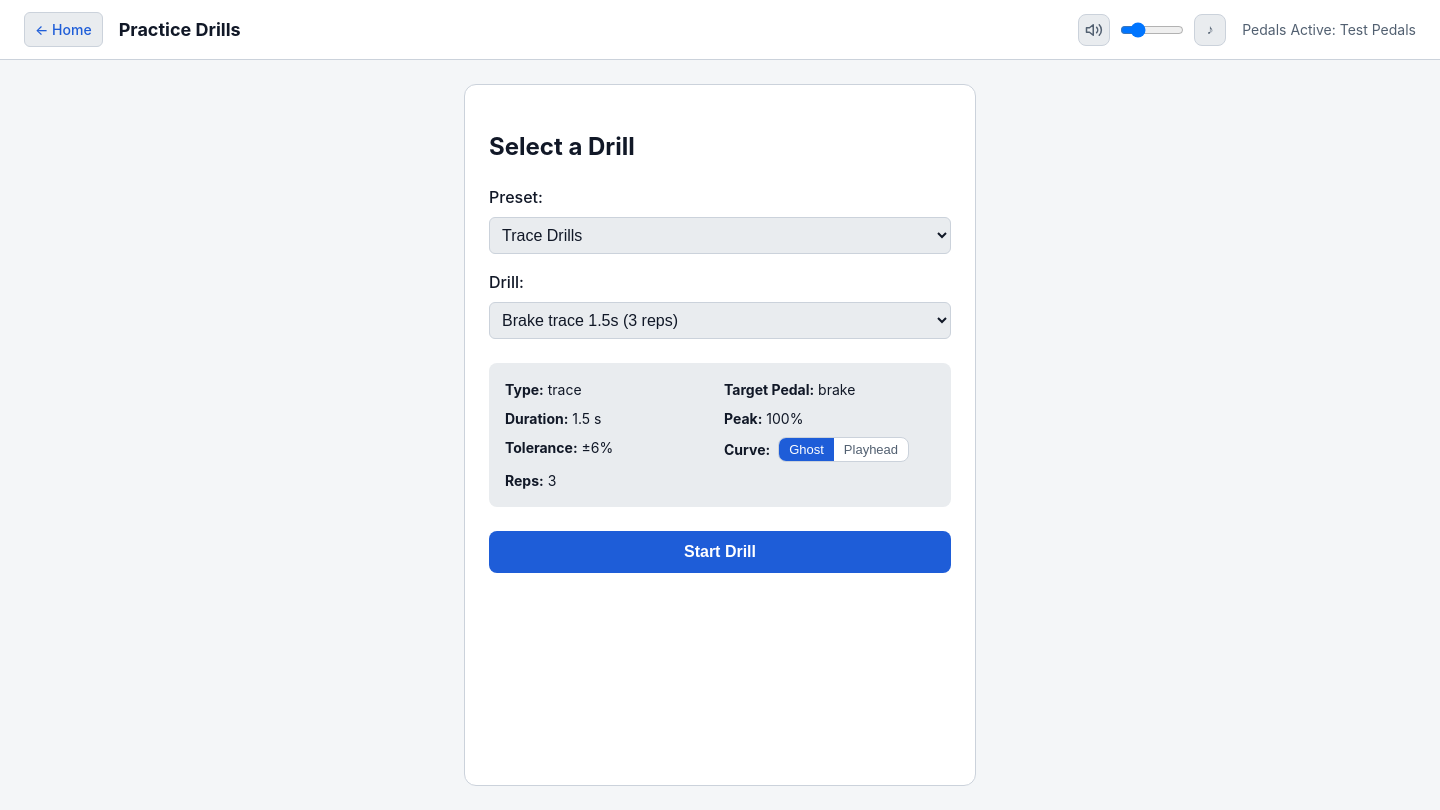
Drill page › renders trace-view and trace-hud showing Target after repStarted for a trace drill
Click the button "Start Drill": click(720, 552) x1=489 y1=531 x2=951 y2=573
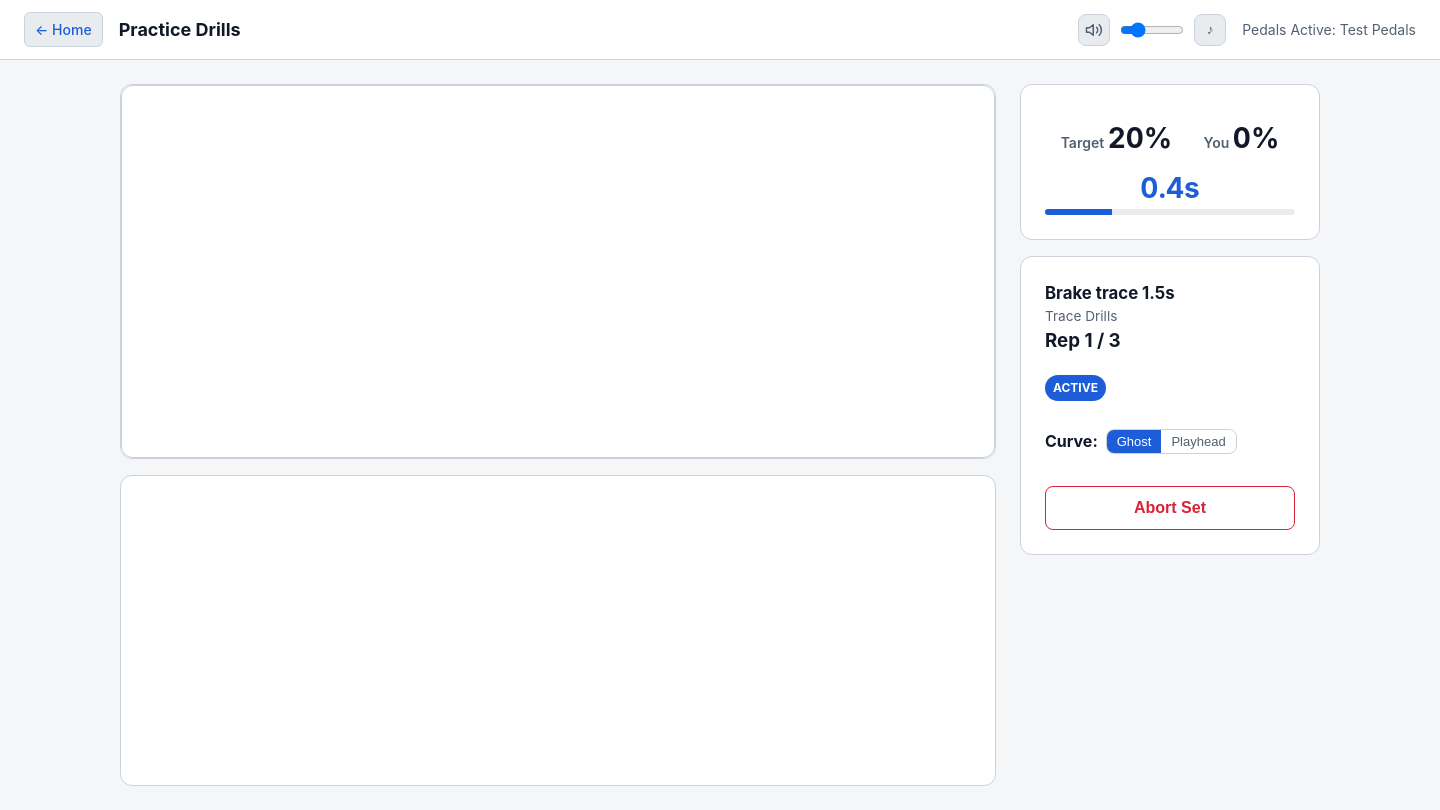
Now the element with test id "trace-view" is shown, box x1=120 y1=475 x2=996 y2=786
Now the element with test id "trace-hud" shows "Target", box x1=1061 y1=134 x2=1108 y2=151
